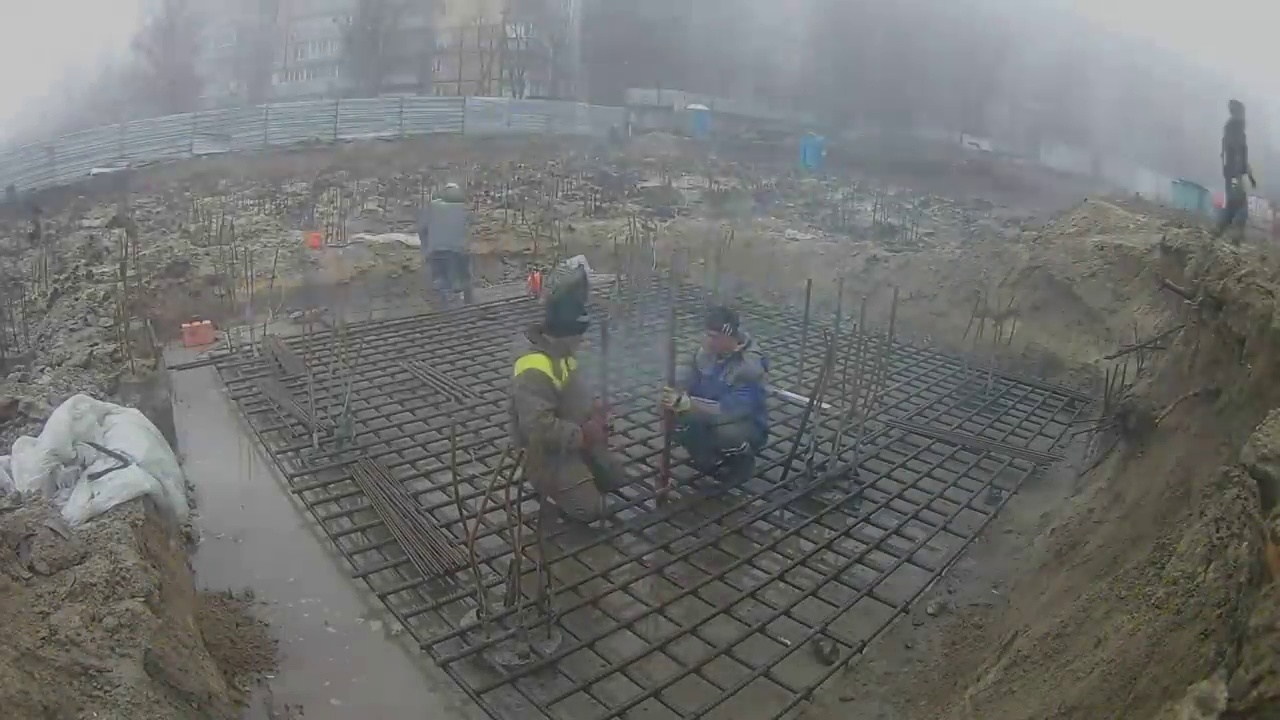helmet-off: (541, 294, 590, 360), (701, 311, 741, 361)
person: (511, 295, 617, 525), (663, 307, 768, 491), (414, 184, 477, 313)
